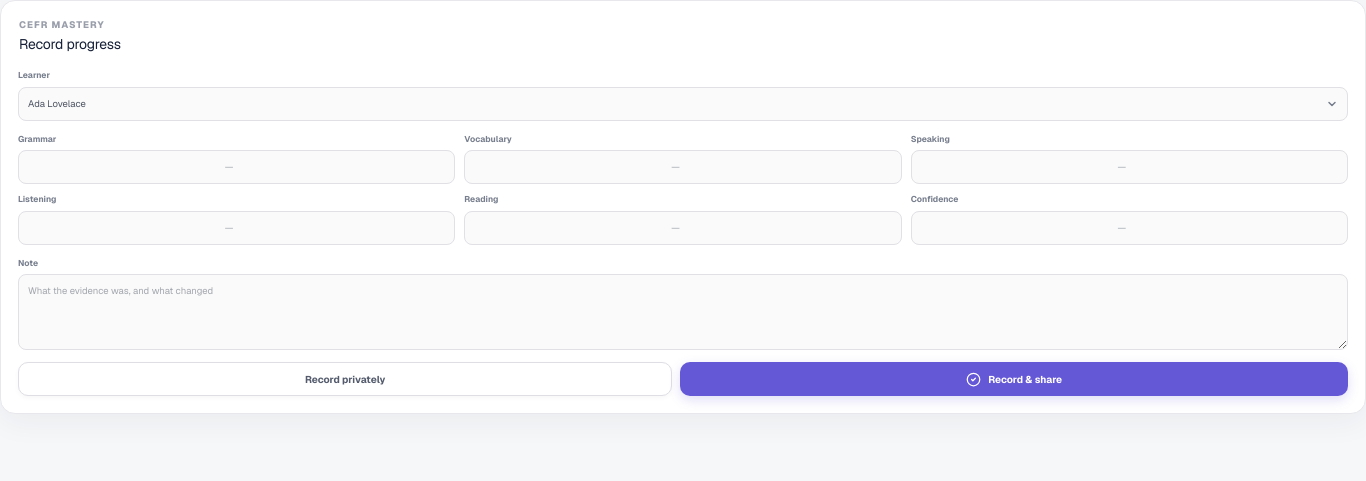
Test: ESL progress entry › refuses to record when nothing was observed
This screenshot has width=1366, height=481.
Click the button "Record privately". click: (345,379)
box: [18,362,672,396]
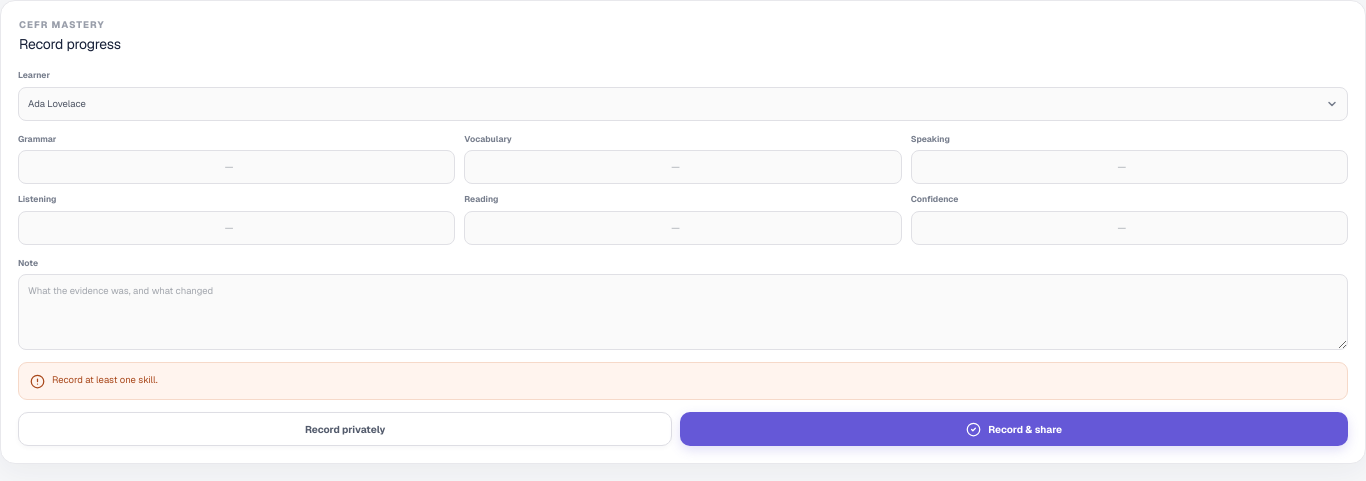
Now the message "Record at least one skill." is shown, box [18,362,1348,400]
